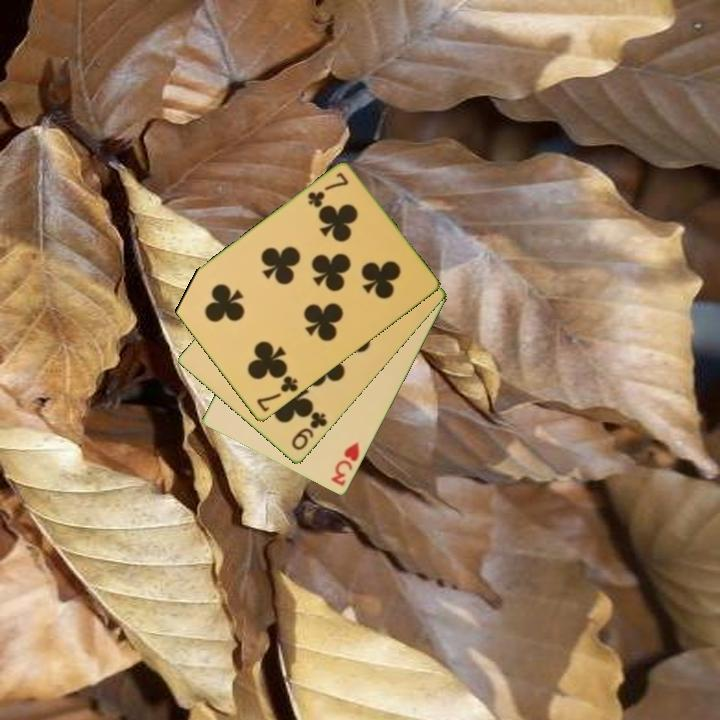3h: (327, 439, 362, 489)
7c: (253, 373, 301, 415), (304, 169, 351, 211)
9c: (288, 408, 330, 454)
